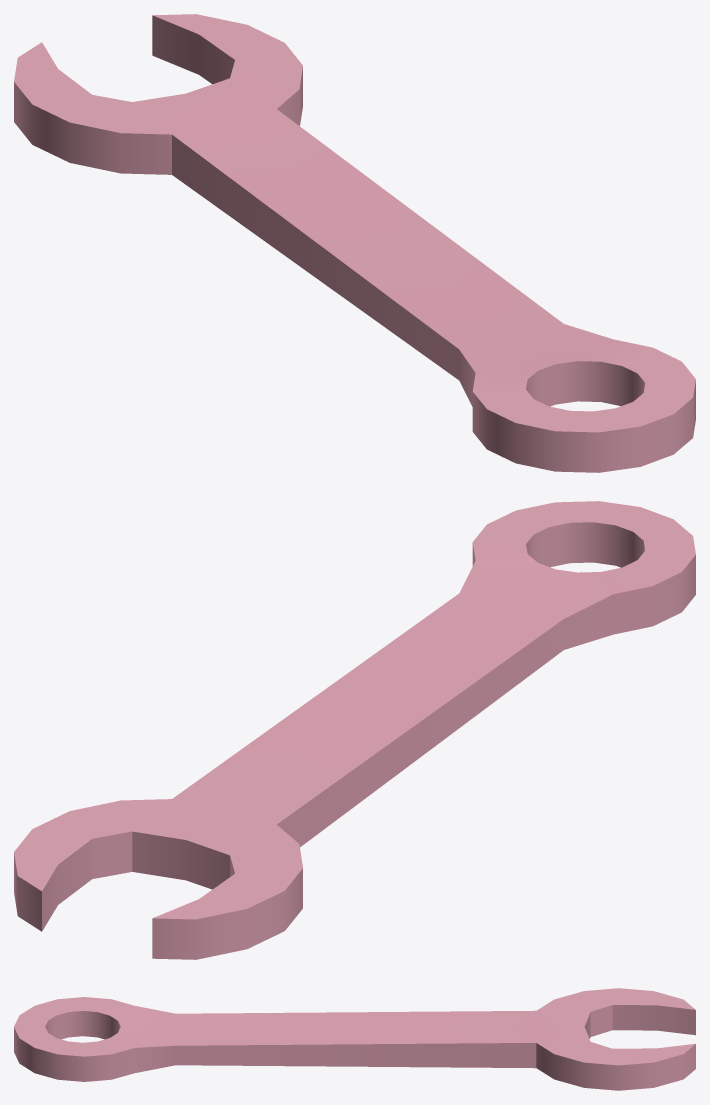
File: Wrench.fbx
The picture shows the model from 3 angles, top to bottom: view 1: azimuth 30°, elevation 25°; view 2: azimuth 150°, elevation 25°; view 3: azimuth 270°, elevation 25°; orthographic projection. The views are drawn at different scales.
Visible parts, largest first — view 1: Wrench; view 2: Wrench; view 3: Wrench.
Boxes of the visible parts, x1=… form: Wrench: x1=14, y1=14, x2=695, y2=472; Wrench: x1=14, y1=501, x2=695, y2=959; Wrench: x1=14, y1=988, x2=695, y2=1090.
Bounding box in the file's own units: 13.1 × 2 × 48.82.
